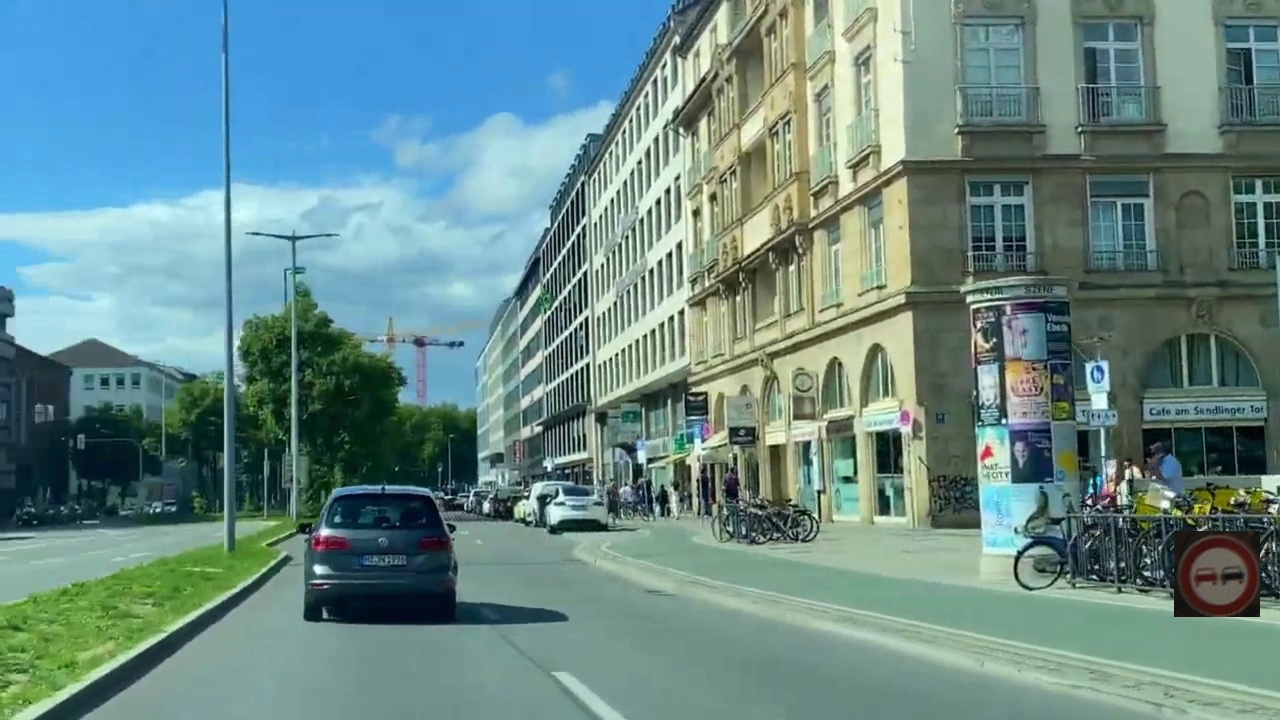No passing: (1174, 531, 1260, 617)
